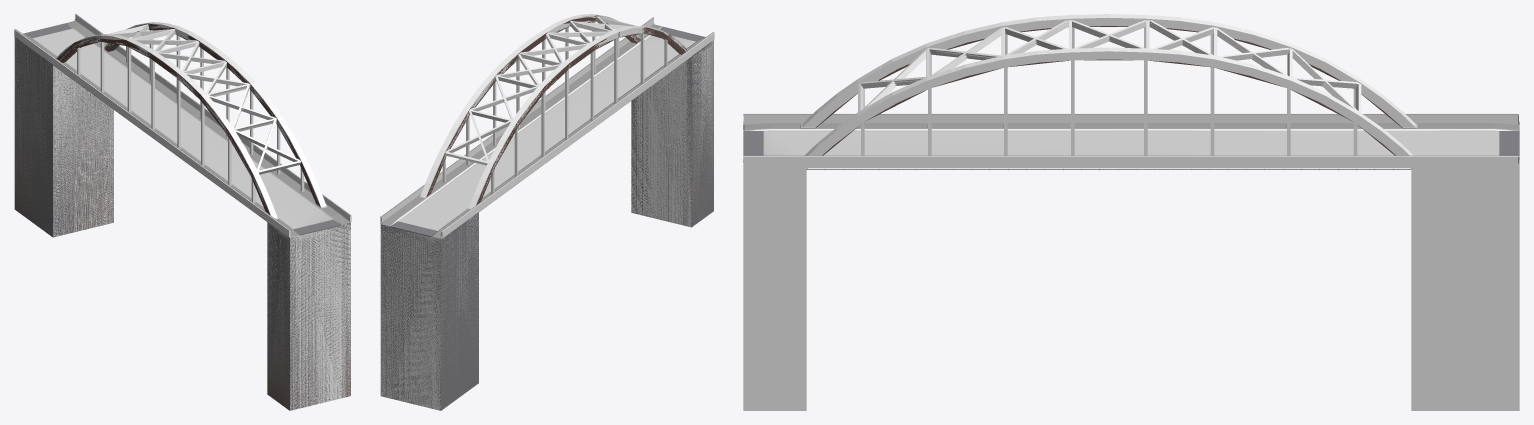
Rendered from eca_bld_bridge_80m.dae.
3 renders of one model, left to right at view 1: azimuth 30°, elevation 25°; view 2: azimuth 150°, elevation 25°; view 3: azimuth 270°, elevation 25°, orthographic. The views are drawn at different scales.
Parts seen in each view (by area): view 1: eca_bld_bridge_80m_a300, Colmesh-1, eca_bld_bridge_80m_a20, eca_bld_bridge_80m_a2000; view 2: Colmesh-1, eca_bld_bridge_80m_a20, eca_bld_bridge_80m_a300, eca_bld_bridge_80m_a2000; view 3: Colmesh-1, eca_bld_bridge_80m_a300, eca_bld_bridge_80m_a2000, eca_bld_bridge_80m_a20.
Part boxes in pixels (left/top/right/bottom): eca_bld_bridge_80m_a300: left=14, top=14, right=350, bottom=410; Colmesh-1: left=14, top=14, right=351, bottom=410; eca_bld_bridge_80m_a20: left=14, top=23, right=350, bottom=410; eca_bld_bridge_80m_a2000: left=14, top=14, right=350, bottom=402; Colmesh-1: left=380, top=14, right=714, bottom=410; eca_bld_bridge_80m_a20: left=380, top=15, right=713, bottom=410; eca_bld_bridge_80m_a300: left=380, top=14, right=713, bottom=410; eca_bld_bridge_80m_a2000: left=380, top=18, right=713, bottom=395; Colmesh-1: left=743, top=14, right=1519, bottom=410; eca_bld_bridge_80m_a300: left=743, top=14, right=1519, bottom=170; eca_bld_bridge_80m_a2000: left=743, top=37, right=1519, bottom=165; eca_bld_bridge_80m_a20: left=743, top=26, right=1519, bottom=159.
Size of the model in its own units: 11.32 by 86.05 by 43.69.
